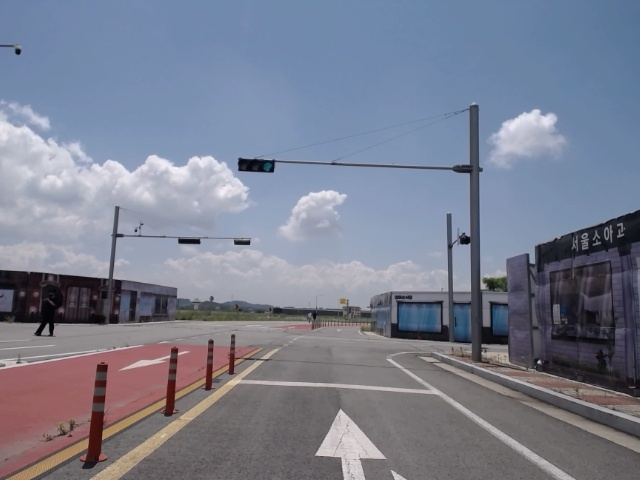green_3: (238, 159, 275, 173)
